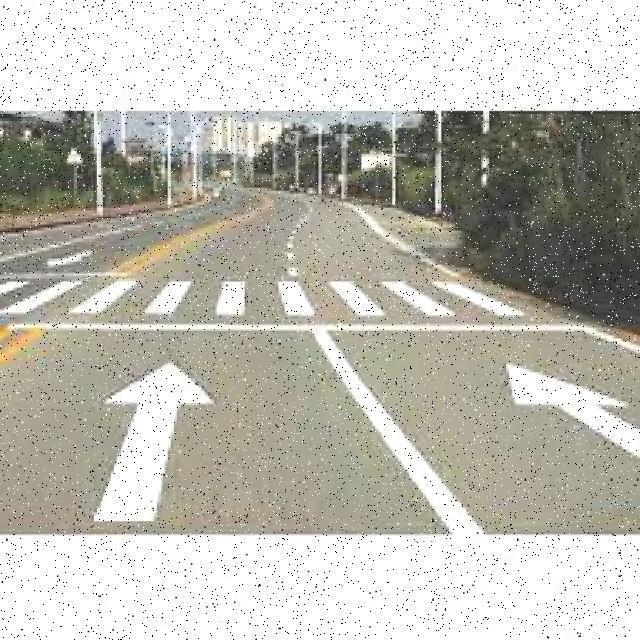crosswalk: (5, 278, 536, 320)
